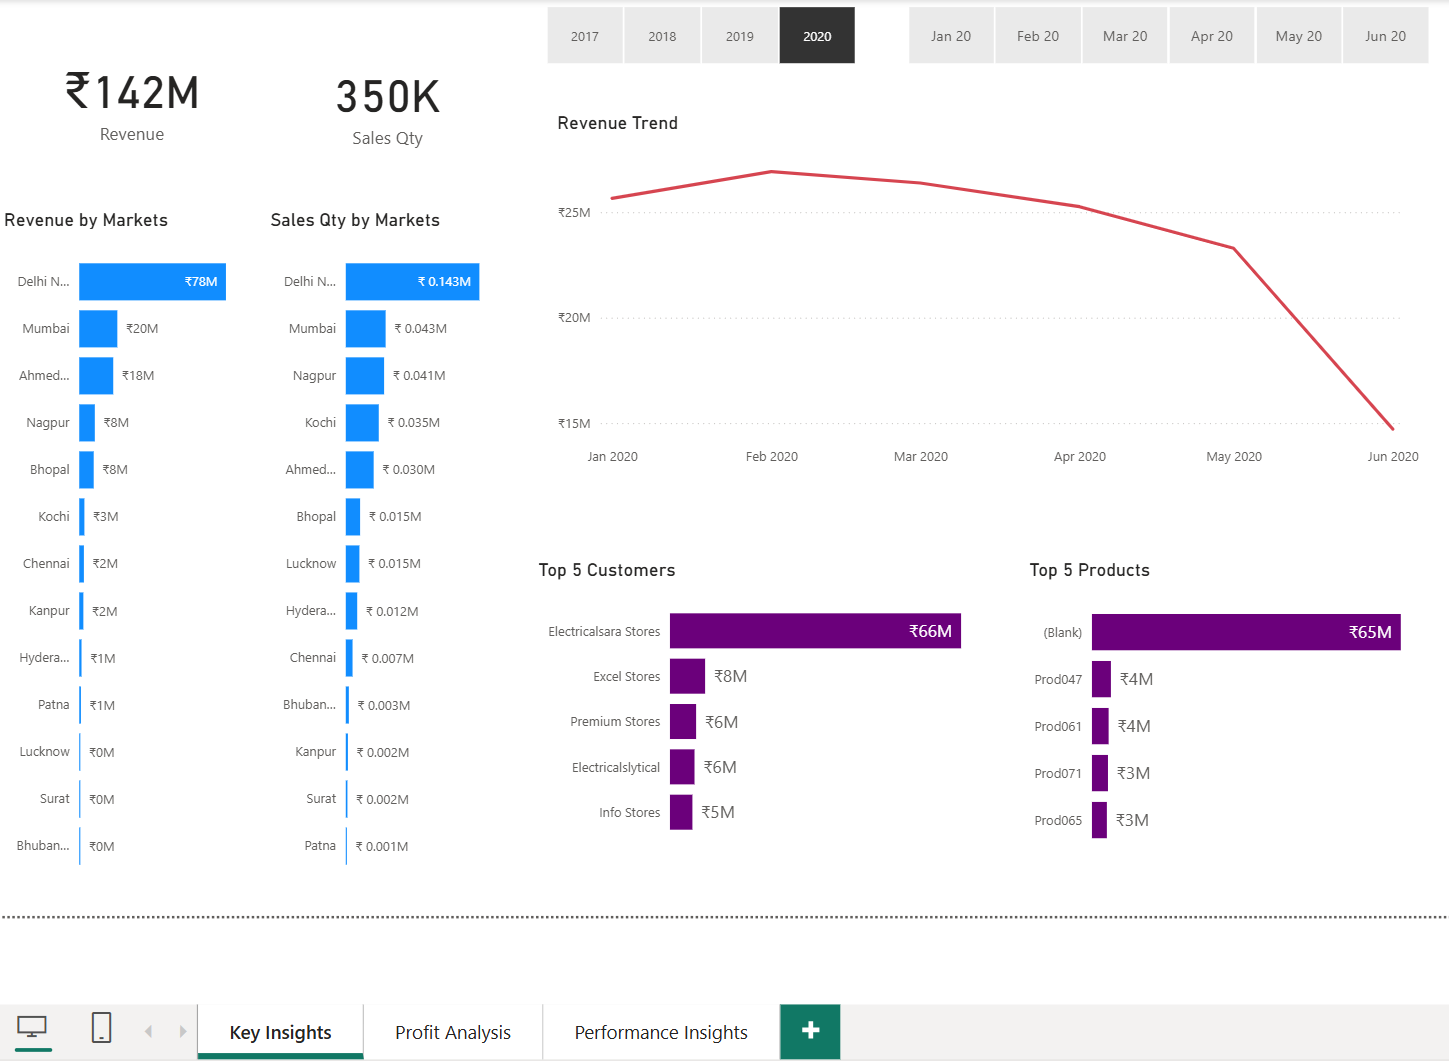

What the dashboard file says about the page in this screenshot:
{"tool":"powerbi","page":{"name":"Key Insights","canvas":[1350,850],"ordinal":0},"visuals":[{"type":"card","fields":{"Values":["BaseMeasures (2).Revenue"]},"box":[0,0,247.9,184.6],"z":0},{"type":"card","fields":{"Values":["BaseMeasures (2).Sales Qty"]},"box":[247.9,0,227.9,193.1],"z":1000},{"type":"barChart","title":"Revenue by Markets","fields":{"Y":["BaseMeasures (2).Revenue"],"Category":["sales markets.markets_name"]},"box":[0,193.1,247.9,631.9],"z":2000},{"type":"barChart","title":"Sales Qty by Markets","fields":{"Y":["BaseMeasures (2).Sales Qty"],"Category":["sales markets.markets_name"]},"box":[247.9,193.1,247.9,631.9],"z":3000},{"type":"slicer","fields":{"Values":["sales date.year"]},"box":[483.2,0,335.5,66.5],"z":4000},{"type":"slicer","fields":{"Values":["sales date.cy_date"]},"box":[818.6,0,531.7,66.5],"z":5000},{"type":"barChart","title":"Top 5 Customers","fields":{"Y":["BaseMeasures (2).Revenue"],"Category":["sales customers.custmer_name"]},"box":[495.8,519,446.2,274.3],"z":6000},{"type":"barChart","title":"Top 5 Products","fields":{"Y":["BaseMeasures (2).Revenue"],"Category":["sales products.product_code"]},"box":[950.7,519.2,399.5,282.8],"z":7000},{"type":"lineChart","title":"Revenue Trend","fields":{"Y":["BaseMeasures (2).Revenue"],"Category":["sales date.cy_date"]},"box":[513.8,104.4,809.1,338.6],"z":8000}]}

Visuals, with their boxes on the page's 1350x850 design canvas (x1, y1, x2, y2). These are canvas units, not pixel positions in the 1449x1061 screenshot, which may show the page scaled, cropped or inside an application window:
card - BaseMeasures (2).Revenue: (0, 0, 248, 185)
card - BaseMeasures (2).Sales Qty: (248, 0, 476, 193)
"Revenue by Markets" barChart: (0, 193, 248, 825)
"Sales Qty by Markets" barChart: (248, 193, 496, 825)
slicer - sales date.year: (483, 0, 819, 66)
slicer - sales date.cy_date: (819, 0, 1350, 66)
"Top 5 Customers" barChart: (496, 519, 942, 793)
"Top 5 Products" barChart: (951, 519, 1350, 802)
"Revenue Trend" lineChart: (514, 104, 1323, 443)
